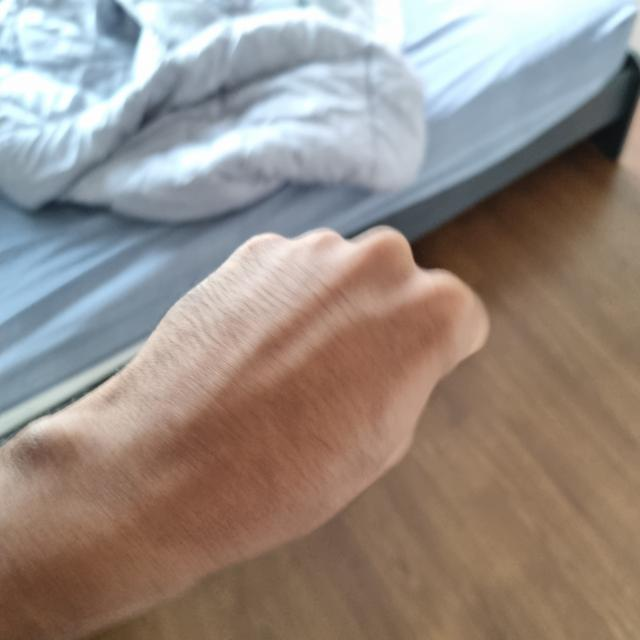Rock: (86, 228, 482, 571)
